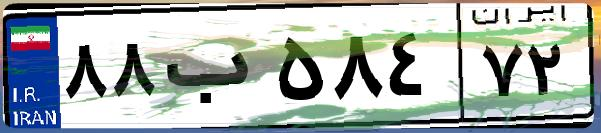2: (525, 38, 570, 115)
4: (385, 28, 445, 110)
5: (270, 28, 330, 110)
7: (475, 38, 525, 113)
8: (330, 28, 385, 110), (57, 26, 110, 100), (110, 28, 158, 98)
ب: (158, 20, 270, 120)
